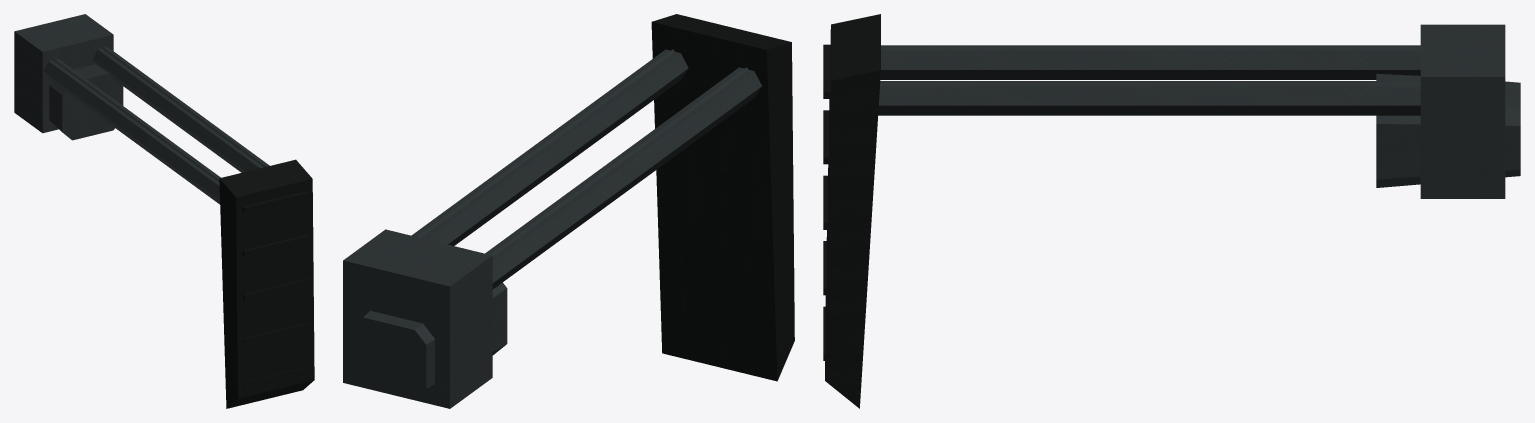
File: mpx_stock.glb
3 views of the same model, side by side, from view 1: azimuth 30°, elevation 25°; view 2: azimuth 150°, elevation 25°; view 3: azimuth 270°, elevation 25° (orthographic). The views are drawn at different scales.
Visible parts, largest first — view 1: stock__mpx_stock_LOD0_RAID_Secondary_Original_rubber, stock__mpx_stock_LOD0_RAID_Secondary_Original_steel, stock__mpx_stock_LOD1_RAID_Secondary_Original_rubber, stock__mpx_stock_LOD1_RAID_Secondary_Original_steel; view 2: stock__mpx_stock_LOD0_RAID_Secondary_Original_steel, stock__mpx_stock_LOD0_RAID_Secondary_Original_rubber, stock__mpx_stock_LOD1_RAID_Secondary_Original_rubber, stock__mpx_stock_LOD1_RAID_Secondary_Original_steel; view 3: stock__mpx_stock_LOD0_RAID_Secondary_Original_steel, stock__mpx_stock_LOD0_RAID_Secondary_Original_rubber, stock__mpx_stock_LOD1_RAID_Secondary_Original_rubber, stock__mpx_stock_LOD1_RAID_Secondary_Original_steel.
Part boxes in pixels (<box>): stock__mpx_stock_LOD0_RAID_Secondary_Original_rubber: <box>219,161,312,406</box>; stock__mpx_stock_LOD0_RAID_Secondary_Original_steel: <box>14,14,269,204</box>; stock__mpx_stock_LOD1_RAID_Secondary_Original_rubber: <box>219,159,314,408</box>; stock__mpx_stock_LOD1_RAID_Secondary_Original_steel: <box>52,47,266,182</box>; stock__mpx_stock_LOD0_RAID_Secondary_Original_steel: <box>343,49,761,408</box>; stock__mpx_stock_LOD0_RAID_Secondary_Original_rubber: <box>654,15,793,378</box>; stock__mpx_stock_LOD1_RAID_Secondary_Original_rubber: <box>651,14,794,381</box>; stock__mpx_stock_LOD1_RAID_Secondary_Original_steel: <box>417,49,748,256</box>; stock__mpx_stock_LOD0_RAID_Secondary_Original_steel: <box>878,24,1520,198</box>; stock__mpx_stock_LOD0_RAID_Secondary_Original_rubber: <box>823,16,879,403</box>; stock__mpx_stock_LOD1_RAID_Secondary_Original_rubber: <box>825,14,880,408</box>; stock__mpx_stock_LOD1_RAID_Secondary_Original_steel: <box>880,47,1420,85</box>.
Bounding box in the file's own units: 0.069 × 0.194 × 0.362.
Materials: 2 (2 with a texture image).
